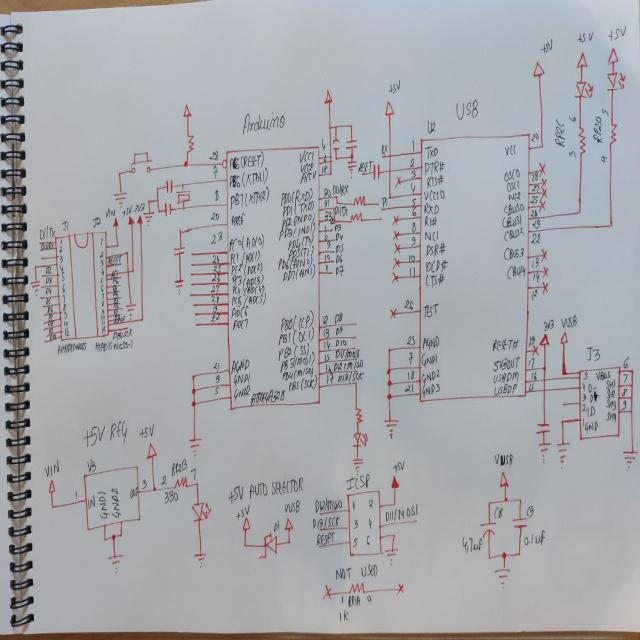capacitor: (479, 520, 496, 539), (511, 515, 527, 529), (534, 422, 550, 435), (161, 199, 171, 217), (172, 244, 186, 256), (344, 136, 358, 148), (372, 163, 380, 182), (165, 177, 173, 194), (332, 137, 341, 151)
crossover: (541, 375, 547, 383), (387, 167, 393, 175), (541, 386, 547, 392), (126, 268, 130, 275), (388, 152, 392, 159), (328, 154, 332, 158), (328, 159, 332, 162)
diode: (258, 531, 278, 559), (190, 500, 212, 522), (606, 70, 626, 91), (573, 80, 593, 100), (352, 430, 368, 448)
ground: (492, 566, 510, 590), (556, 441, 570, 469), (107, 552, 123, 574), (382, 418, 398, 440), (622, 449, 638, 470), (537, 440, 551, 464), (188, 436, 202, 459), (384, 546, 398, 566), (113, 190, 127, 208), (192, 551, 206, 568), (352, 457, 364, 476), (143, 210, 155, 227), (347, 160, 357, 180), (30, 278, 40, 296), (126, 302, 136, 319), (174, 278, 184, 294)
junction: (386, 377, 392, 387), (154, 195, 160, 205), (182, 159, 188, 168), (386, 365, 392, 374), (386, 391, 392, 400), (501, 550, 507, 558), (177, 226, 183, 234), (190, 386, 196, 394), (628, 393, 634, 401), (502, 496, 508, 503), (561, 369, 567, 376), (386, 345, 391, 353), (191, 400, 196, 408), (628, 407, 634, 413), (391, 501, 397, 507), (316, 398, 321, 405), (286, 538, 291, 545), (517, 496, 522, 503), (194, 480, 199, 487), (560, 417, 564, 425), (608, 220, 612, 228), (348, 122, 353, 128), (576, 208, 581, 214), (333, 123, 338, 129), (629, 382, 634, 388), (242, 541, 246, 548), (191, 372, 195, 379), (50, 502, 54, 509), (111, 533, 115, 540), (328, 123, 332, 130), (487, 499, 491, 506), (131, 267, 135, 274), (350, 152, 354, 159), (328, 170, 332, 177), (181, 205, 186, 210), (155, 185, 159, 191), (117, 170, 121, 176), (517, 550, 521, 556), (391, 532, 395, 538), (140, 316, 144, 322), (487, 554, 491, 560), (540, 143, 544, 149), (33, 264, 37, 270), (147, 198, 151, 204), (181, 181, 185, 187), (152, 486, 156, 492), (103, 536, 107, 542), (119, 532, 123, 538), (334, 155, 338, 161), (542, 366, 546, 372), (388, 194, 392, 200), (629, 368, 633, 373), (115, 242, 119, 247), (156, 208, 160, 213), (335, 193, 339, 198), (332, 219, 337, 223), (125, 250, 129, 254), (335, 200, 339, 204), (332, 206, 335, 209)
resistor: (576, 122, 586, 156), (172, 474, 188, 490), (348, 580, 364, 594), (184, 132, 194, 154), (349, 210, 363, 224), (352, 194, 367, 207), (608, 122, 616, 145), (354, 404, 362, 426)
source: (531, 59, 545, 78), (606, 45, 618, 64), (575, 51, 587, 69), (498, 470, 509, 489), (145, 442, 157, 459), (323, 88, 333, 105), (182, 103, 192, 119), (384, 100, 394, 116), (390, 474, 400, 490), (538, 333, 550, 346), (283, 517, 293, 531), (240, 517, 250, 530), (559, 330, 568, 344), (47, 479, 55, 494), (127, 215, 135, 226), (135, 214, 143, 224), (112, 217, 118, 227)
switch: (128, 149, 152, 173)
terminal: (322, 583, 330, 602), (392, 254, 400, 268), (397, 582, 404, 596)
text: (248, 475, 304, 500), (82, 420, 128, 448), (241, 110, 285, 134), (227, 188, 270, 211), (227, 168, 271, 190), (334, 561, 378, 579), (278, 350, 314, 372), (280, 309, 314, 332), (229, 150, 266, 170), (278, 222, 315, 242), (276, 326, 314, 345), (228, 232, 264, 252), (282, 263, 316, 282), (280, 187, 312, 207), (277, 342, 309, 362), (281, 211, 314, 230), (94, 339, 133, 354), (384, 504, 418, 521), (250, 387, 284, 404), (282, 200, 314, 218), (230, 292, 266, 308), (287, 373, 317, 392), (280, 365, 314, 381), (229, 249, 261, 266), (454, 98, 478, 120), (230, 260, 262, 276), (232, 273, 264, 289), (491, 334, 519, 352), (286, 233, 314, 251), (277, 256, 313, 270), (313, 496, 343, 512), (491, 354, 519, 371), (346, 471, 370, 490), (57, 340, 87, 355), (312, 513, 340, 529), (522, 530, 546, 548), (460, 535, 482, 553), (288, 244, 314, 259), (232, 284, 264, 296), (607, 23, 627, 42), (424, 240, 446, 257), (505, 262, 527, 279), (492, 382, 518, 396), (424, 257, 448, 272), (502, 244, 524, 260), (230, 356, 250, 373), (330, 360, 364, 370), (492, 370, 518, 383), (553, 118, 565, 146), (335, 370, 363, 382), (501, 213, 522, 229), (314, 530, 334, 546), (110, 486, 120, 518), (503, 226, 523, 242), (228, 484, 244, 504), (423, 159, 444, 174), (423, 272, 445, 286), (423, 187, 445, 201), (422, 334, 440, 351), (424, 173, 444, 188), (503, 202, 524, 216), (98, 490, 108, 519), (44, 459, 60, 477), (169, 458, 187, 474), (335, 348, 359, 360), (232, 384, 250, 400), (423, 202, 443, 216), (592, 115, 602, 143), (493, 452, 513, 466), (420, 368, 440, 382), (584, 344, 600, 361), (423, 301, 439, 318), (284, 497, 300, 514), (232, 371, 250, 386), (235, 502, 250, 520), (558, 314, 577, 328), (419, 352, 438, 366), (138, 423, 154, 439), (39, 225, 55, 241), (298, 148, 314, 164), (299, 168, 315, 184), (503, 167, 520, 182), (161, 488, 179, 502), (231, 304, 249, 318), (111, 328, 131, 340), (422, 382, 439, 396), (330, 182, 348, 195), (387, 78, 401, 94), (357, 159, 373, 173), (577, 30, 594, 43), (422, 229, 442, 240), (540, 38, 554, 53), (230, 212, 245, 226), (422, 215, 438, 228), (582, 419, 598, 432), (595, 368, 611, 381), (506, 179, 520, 193), (232, 318, 248, 330), (210, 229, 222, 245), (334, 204, 348, 217), (346, 595, 360, 608), (86, 456, 96, 474), (493, 504, 503, 521), (425, 144, 438, 157), (504, 142, 516, 156), (392, 459, 404, 473), (300, 161, 314, 173), (121, 204, 133, 217), (605, 398, 617, 411), (107, 253, 121, 264), (543, 318, 554, 332), (507, 191, 521, 202), (112, 314, 126, 325), (129, 485, 139, 500), (605, 410, 617, 422), (104, 206, 115, 219), (426, 120, 436, 134), (339, 609, 349, 623), (589, 390, 599, 404), (403, 297, 413, 310), (530, 232, 540, 245), (334, 338, 347, 348), (87, 493, 95, 509), (333, 311, 343, 323), (529, 132, 539, 144), (209, 210, 219, 222), (526, 503, 534, 518), (605, 377, 615, 389), (586, 405, 596, 417), (133, 202, 145, 212), (91, 216, 101, 228), (208, 149, 218, 161), (334, 264, 344, 276), (380, 142, 388, 156), (407, 350, 414, 366), (40, 242, 54, 250), (605, 388, 615, 399), (404, 382, 414, 393), (406, 334, 415, 346), (622, 356, 630, 369), (530, 256, 538, 269), (530, 288, 538, 301), (272, 519, 280, 532), (326, 372, 334, 385), (322, 186, 331, 197), (407, 368, 415, 380), (532, 271, 540, 283), (532, 218, 540, 230), (61, 220, 69, 232), (160, 474, 168, 486), (334, 324, 342, 336), (366, 515, 372, 530), (587, 382, 596, 392), (210, 273, 220, 282), (210, 313, 220, 322), (408, 252, 416, 263), (322, 327, 330, 338), (324, 362, 332, 373), (334, 252, 342, 263), (528, 334, 534, 348), (320, 138, 326, 152), (212, 165, 218, 179), (567, 149, 576, 158), (409, 183, 417, 193), (530, 171, 538, 181), (44, 286, 52, 296), (110, 269, 118, 279), (322, 340, 330, 350), (333, 222, 341, 232), (211, 254, 219, 264), (210, 284, 218, 294), (323, 210, 331, 220), (336, 243, 344, 253), (410, 234, 416, 247), (190, 467, 196, 480), (409, 265, 415, 278), (620, 399, 627, 410), (530, 370, 537, 381), (352, 516, 358, 528), (410, 220, 416, 232), (601, 107, 609, 116), (381, 195, 387, 207), (365, 534, 371, 546), (352, 536, 358, 548), (622, 371, 628, 383), (530, 194, 538, 203), (322, 314, 328, 326), (213, 190, 219, 202), (211, 294, 219, 303), (322, 198, 330, 207), (335, 231, 343, 240), (530, 208, 537, 218), (323, 253, 330, 263), (410, 168, 416, 179), (411, 206, 417, 217), (528, 357, 534, 368), (568, 114, 576, 122), (531, 184, 539, 192), (44, 276, 52, 284), (46, 319, 54, 327), (48, 334, 56, 342), (212, 264, 220, 272), (141, 478, 147, 488), (409, 156, 415, 166), (214, 373, 220, 383), (410, 196, 416, 206), (366, 593, 372, 603), (621, 386, 627, 396), (582, 370, 588, 380), (581, 392, 587, 402), (581, 402, 587, 412), (321, 164, 327, 174), (411, 138, 415, 152), (112, 276, 119, 284), (112, 296, 119, 304), (368, 497, 373, 508), (600, 154, 606, 163), (212, 386, 218, 395), (45, 266, 51, 275), (45, 296, 51, 305), (528, 382, 534, 391), (323, 353, 329, 362), (212, 304, 218, 313), (325, 240, 331, 249), (111, 284, 118, 291), (47, 305, 53, 313), (47, 312, 53, 320), (47, 326, 53, 334), (100, 326, 106, 334), (112, 290, 118, 298), (99, 237, 104, 246), (323, 233, 328, 242), (351, 499, 355, 510), (61, 282, 65, 293), (323, 223, 327, 234), (64, 330, 70, 337), (329, 218, 335, 225), (340, 594, 344, 604), (581, 381, 585, 391), (61, 271, 65, 281), (63, 310, 67, 320), (74, 490, 78, 500), (325, 262, 329, 272), (59, 254, 63, 263), (100, 267, 104, 276), (61, 294, 65, 303), (62, 320, 68, 326), (100, 314, 106, 320), (113, 302, 119, 308), (112, 308, 118, 314), (58, 245, 62, 253), (59, 264, 63, 272), (99, 250, 103, 258), (100, 258, 104, 266), (100, 276, 104, 284), (100, 284, 104, 292), (100, 300, 104, 308), (323, 154, 327, 162), (100, 292, 104, 299), (62, 303, 66, 310), (101, 308, 105, 315), (59, 238, 63, 244), (64, 325, 68, 331), (101, 319, 105, 325), (114, 314, 120, 318)
